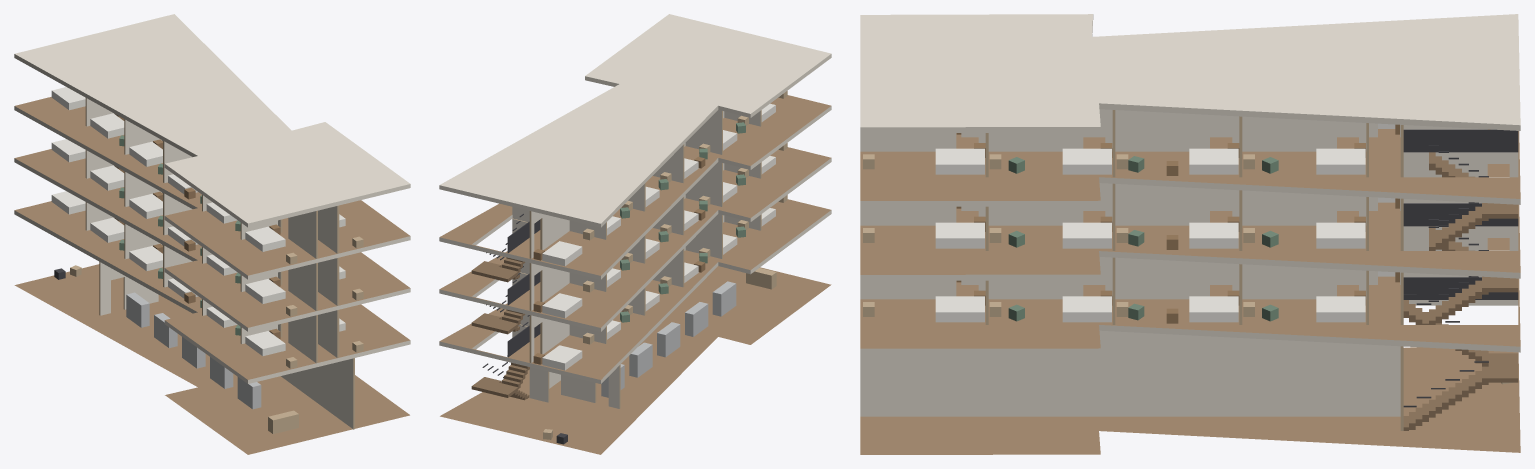
Rendered from interior.glb.
3 renders of one model, left to right at view 1: azimuth 30°, elevation 25°; view 2: azimuth 150°, elevation 25°; view 3: azimuth 270°, elevation 25°, orthographic. The views are drawn at different scales.
Parts seen in each view (by area): view 1: slabs, partitions, coarse-s1, coarse-s2, coarse-s3, coarse-s0; view 2: slabs, partitions, stair, coarse-s0, coarse-s2, coarse-s1, coarse-s3; view 3: slabs, partitions, stair, coarse-s1, coarse-s2, coarse-s3.
Part boxes in pixels (x1=…): slabs: x1=14, y1=14, x2=410, y2=454; partitions: x1=85, y1=98, x2=354, y2=429; coarse-s1: x1=51, y1=191, x2=363, y2=368; coarse-s2: x1=51, y1=139, x2=363, y2=316; coarse-s3: x1=51, y1=87, x2=363, y2=264; coarse-s0: x1=54, y1=265, x2=298, y2=434; slabs: x1=439, y1=14, x2=831, y2=454; partitions: x1=512, y1=110, x2=761, y2=408; stair: x1=471, y1=213, x2=540, y2=400; coarse-s0: x1=543, y1=268, x2=776, y2=444; coarse-s2: x1=533, y1=143, x2=787, y2=318; coarse-s1: x1=533, y1=195, x2=787, y2=370; coarse-s3: x1=533, y1=91, x2=787, y2=266; slabs: x1=860, y1=14, x2=1520, y2=454; partitions: x1=860, y1=109, x2=1518, y2=430; stair: x1=1403, y1=129, x2=1518, y2=430; coarse-s1: x1=863, y1=250, x2=1509, y2=323; coarse-s2: x1=863, y1=177, x2=1509, y2=249; coarse-s3: x1=863, y1=123, x2=1399, y2=175.
Bounding box in the file's own units: 10.87 × 14.68 × 26.77.
